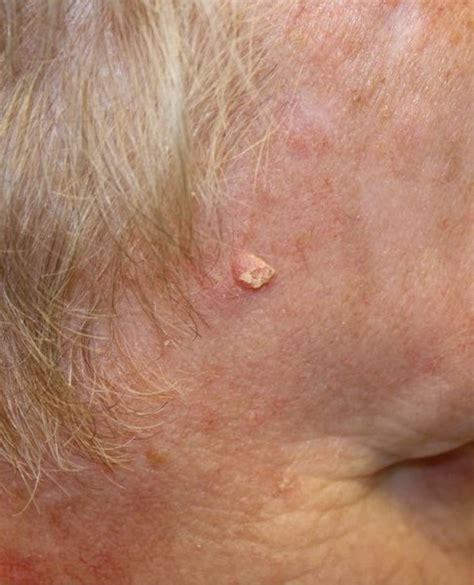Carcinoma: (225, 241, 285, 307)
